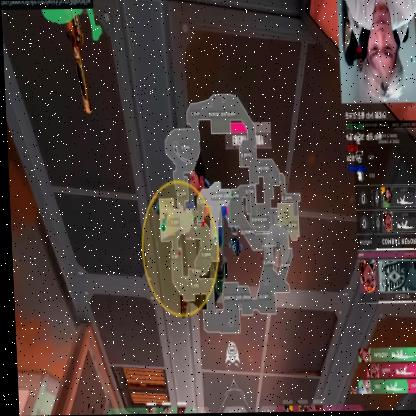streamer: (342, 0, 416, 104)
